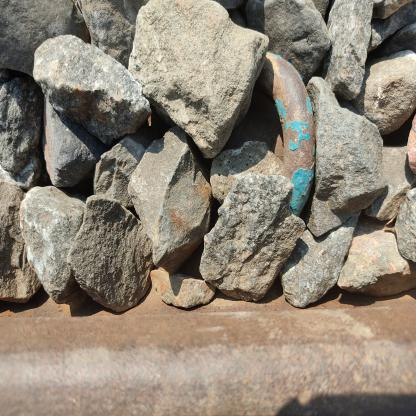Non Defective 1: (143, 17, 344, 330)
